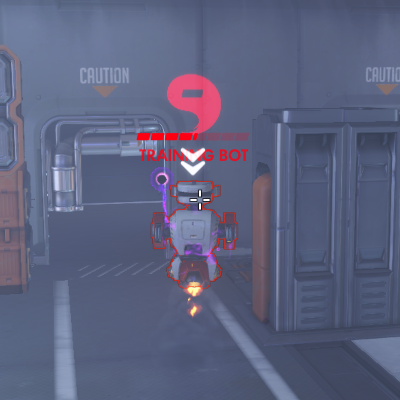hpbar: (136, 132, 249, 141)
